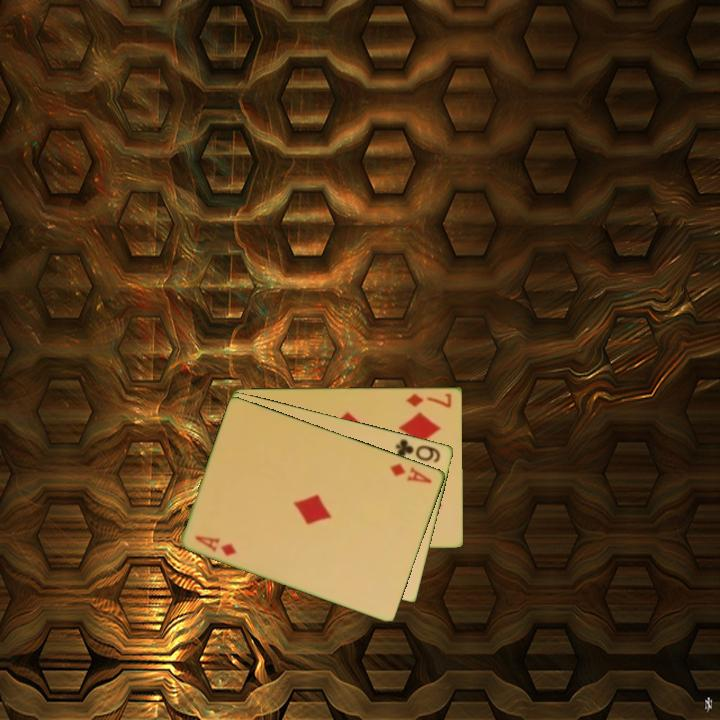6c: (392, 435, 444, 466)
7d: (403, 389, 454, 410)
Ad: (386, 459, 435, 486), (192, 532, 240, 559)
